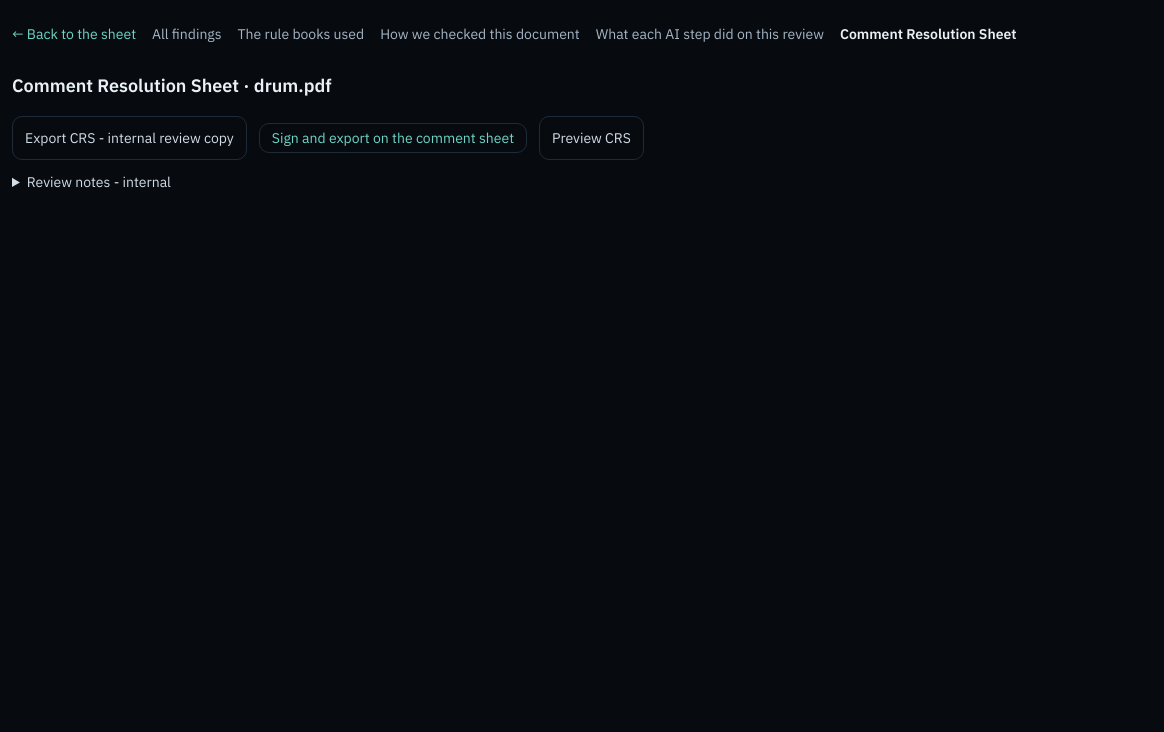
Test: the CRS preview › gives the rule-trust column a cell on every row, so the columns line up (#947)
Click the button "Preview CRS" at (592, 138), box left=539, top=116, right=644, bottom=160
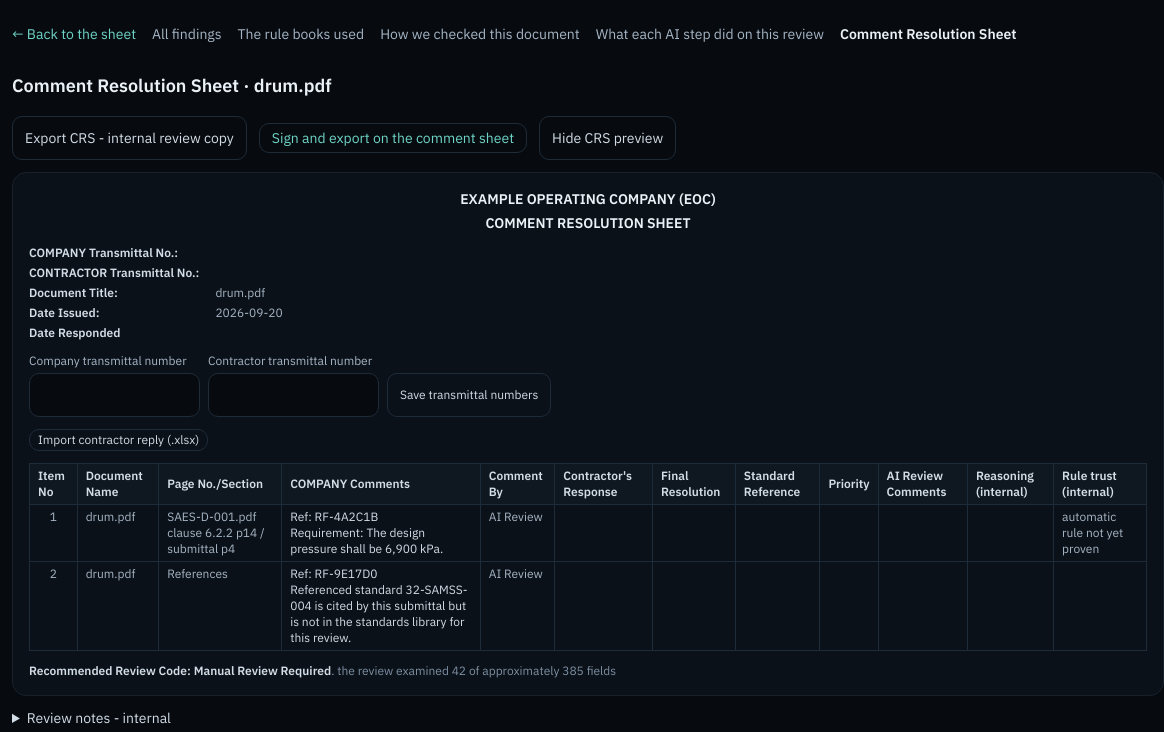
Check: the number of cells with test id "crs-rule-trust" is 2, box left=1054, top=504, right=1146, bottom=562; left=1054, top=562, right=1146, bottom=650
Check: the cell with test id "crs-rule-trust" reads "automatic rule not yet proven", box left=1062, top=509, right=1123, bottom=556
